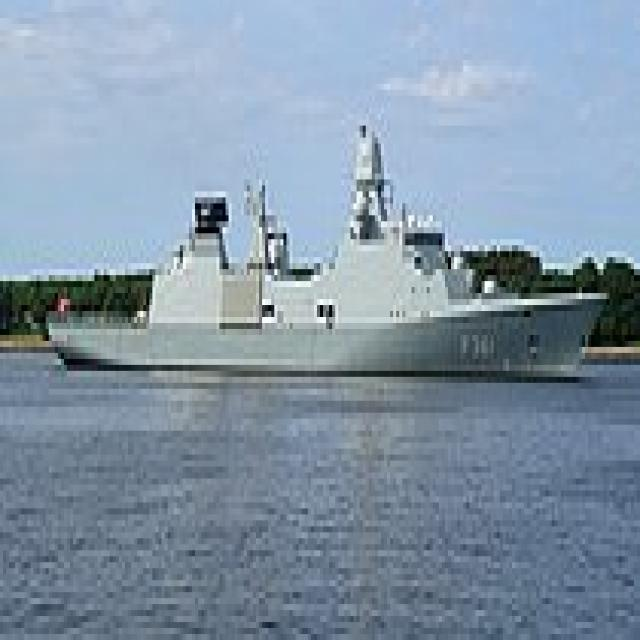Warship: (43, 114, 606, 370)
